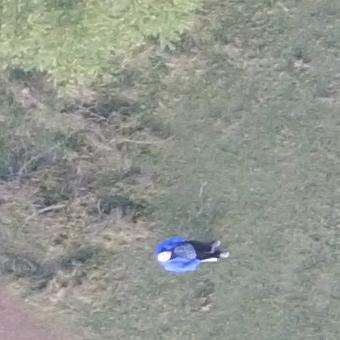human: (156, 234, 230, 274)
